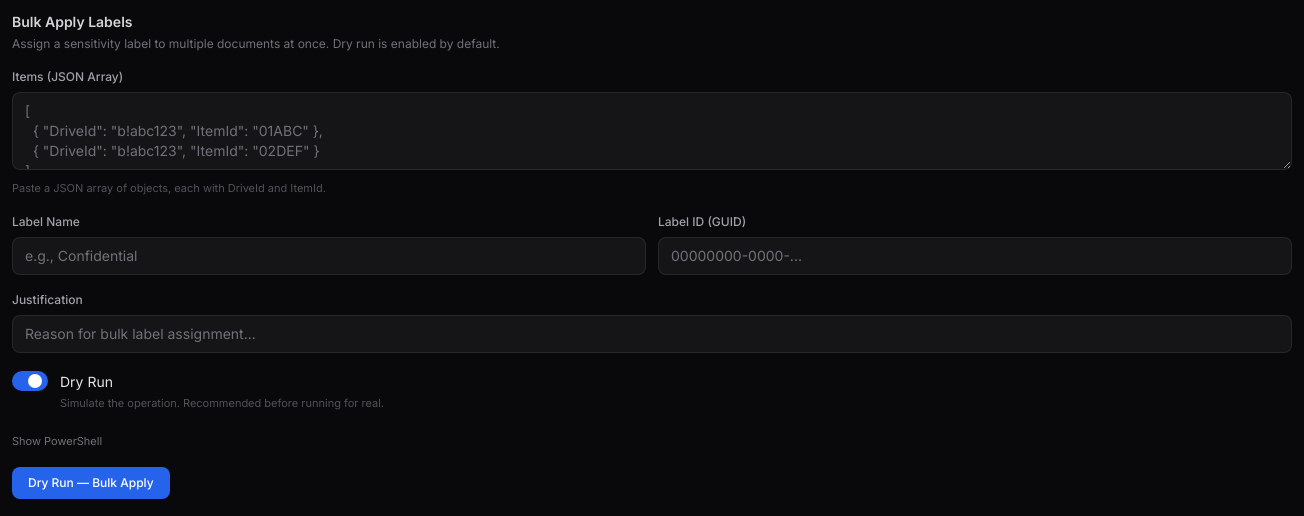
Test: DocumentLabelBulk › mutual exclusion of LabelName and LabelId › disables LabelName when LabelId has text
Type "guid-1234" into the field with placeholder "00000000-0000-..." at (975, 256), box [658, 236, 1292, 274]
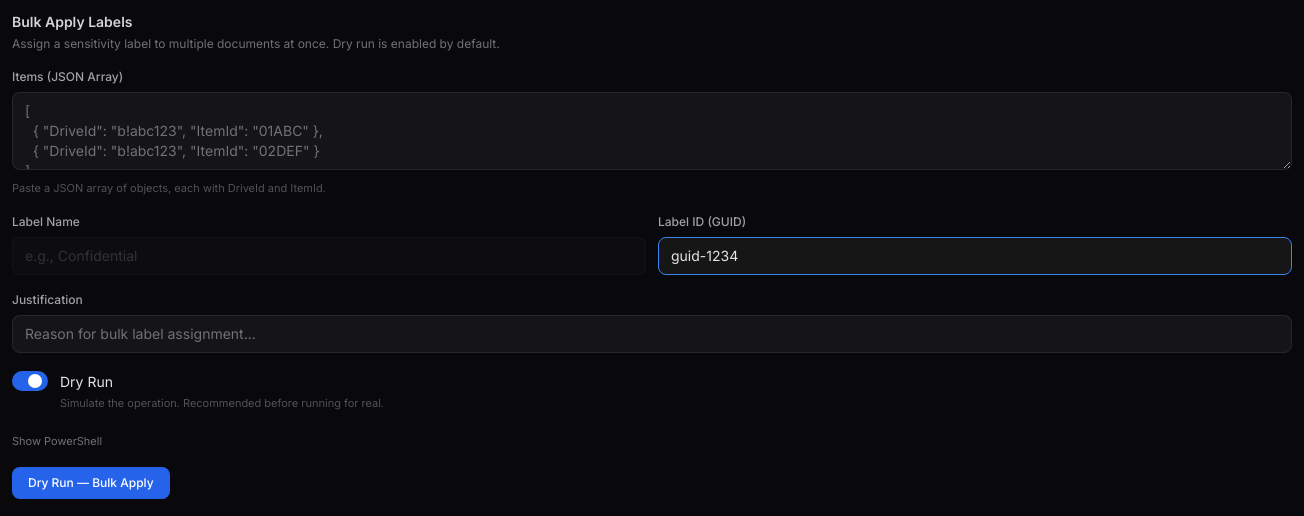
Now the field with placeholder "e.g., Confidential" is disabled, box [12, 236, 646, 274]
